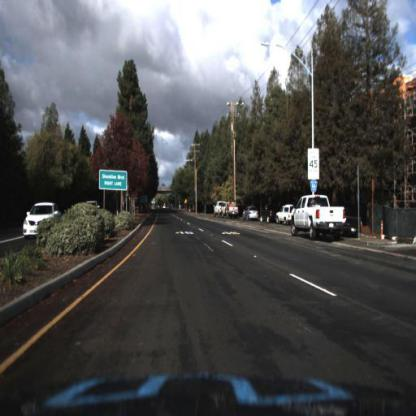car: (293, 197, 349, 236), (24, 204, 62, 238), (275, 200, 294, 223), (260, 204, 278, 225), (244, 206, 261, 223)
truck: (223, 203, 240, 220), (213, 202, 229, 218)
